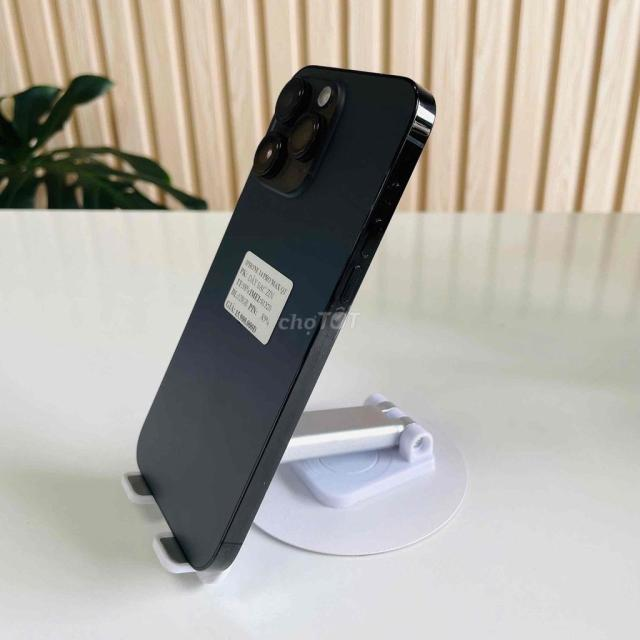gen_14: (120, 56, 437, 570)
